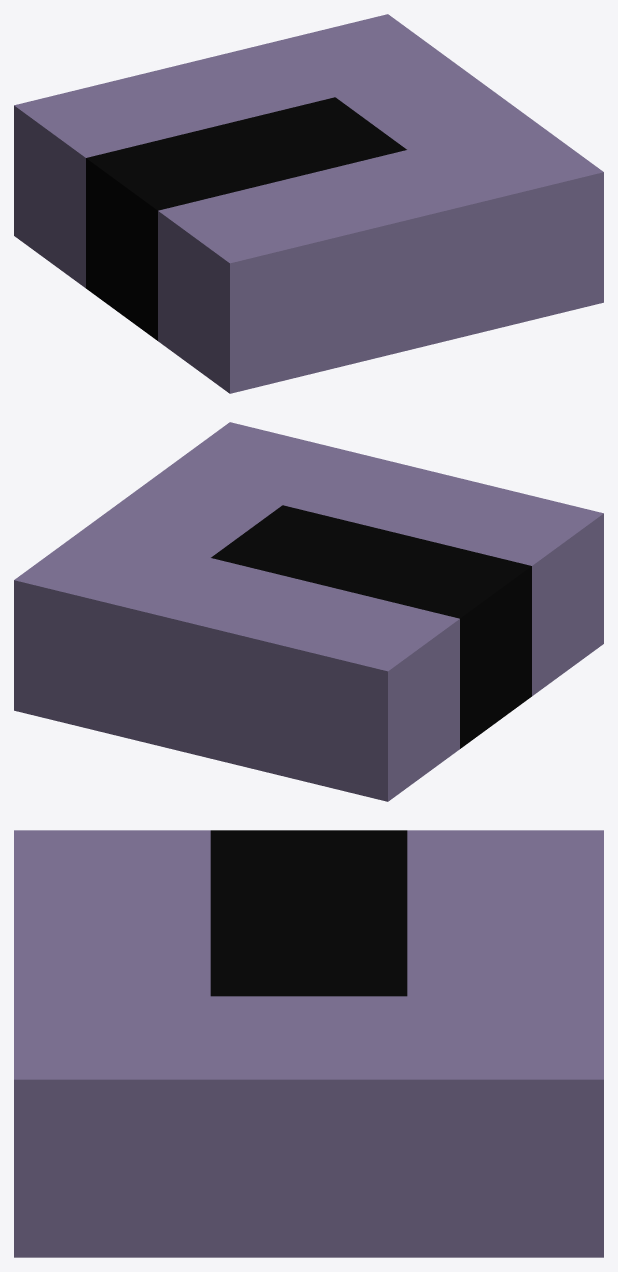
The model's file is spinning_blades_path_a_ending.obj.
3 views of the same model, one above another, from view 1: azimuth 30°, elevation 25°; view 2: azimuth 150°, elevation 25°; view 3: azimuth 270°, elevation 25° (orthographic). The views are drawn at different scales.
Size of the model in its own units: 0.3 by 0.1 by 0.3.
Materials: 1 (1 with a texture image).
